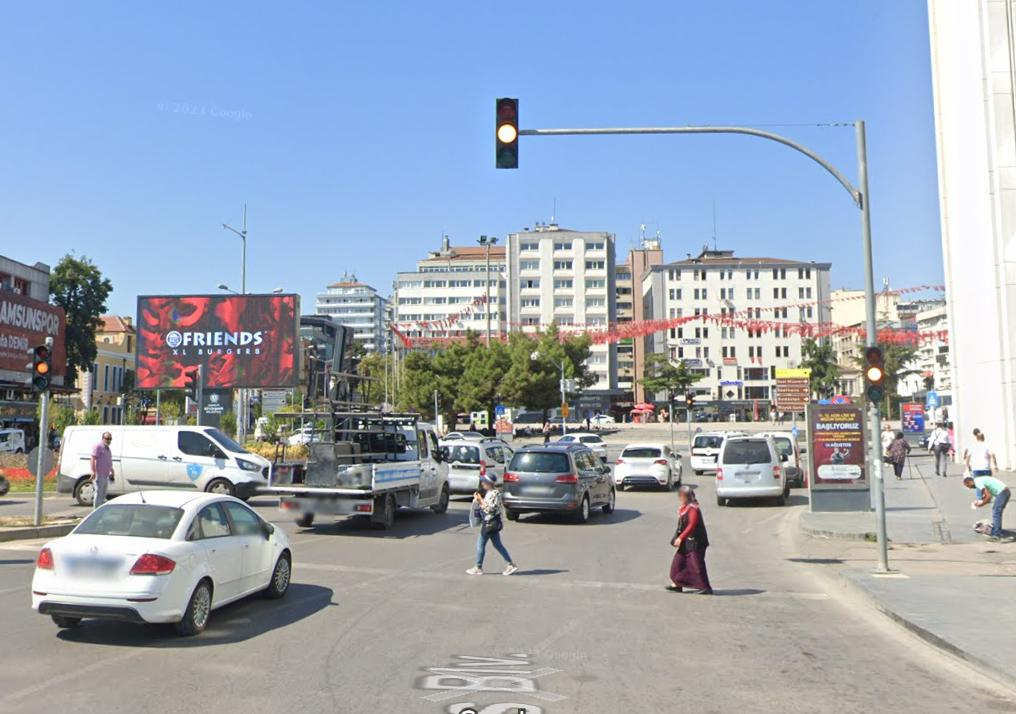yellowlight: (494, 95, 521, 170), (865, 344, 885, 405), (33, 343, 51, 393)
